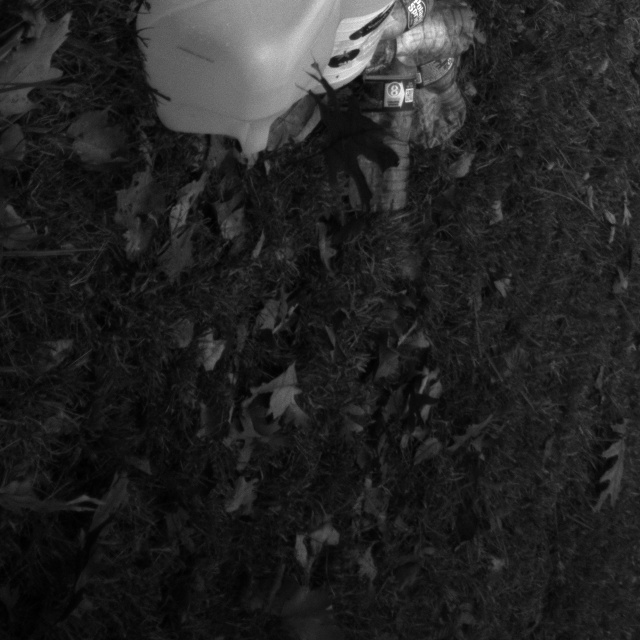bottle: (349, 56, 430, 261), (344, 11, 485, 89)
can: (135, 0, 316, 178), (275, 0, 445, 61)
